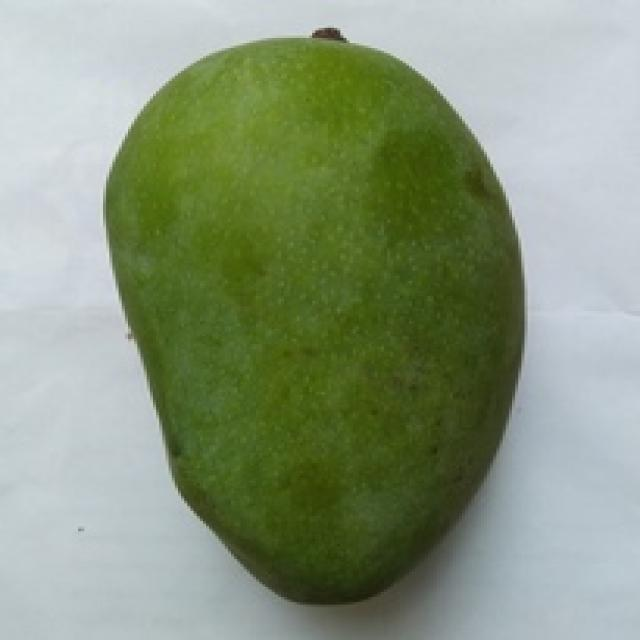Mango: (106, 35, 521, 600)
